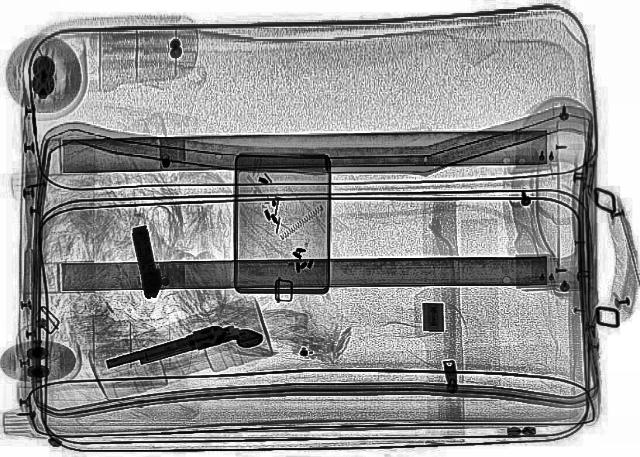Gun: (99, 314, 267, 385), (126, 224, 166, 298)
